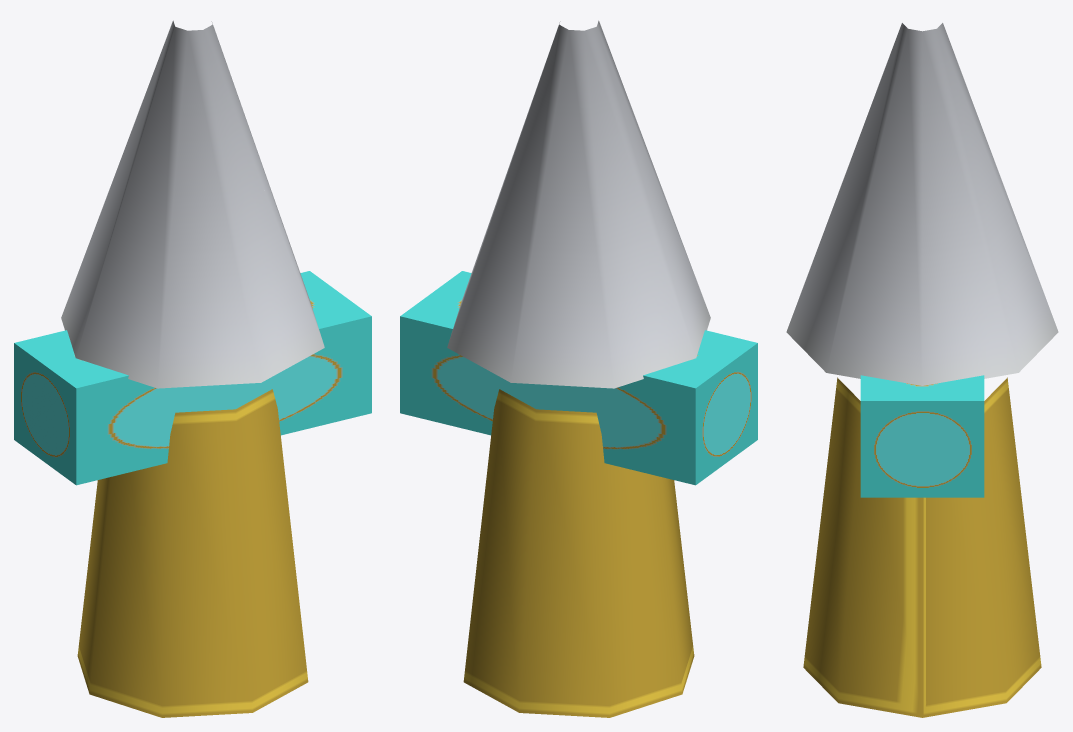
Rendered from ITEM_REST_SANCTUARY_KEY.glb.
3 renders of one model, left to right at view 1: azimuth 30°, elevation 25°; view 2: azimuth 150°, elevation 25°; view 3: azimuth 270°, elevation 25°, orthographic.
Visible parts, largest first — view 1: ITEM_REST_SANCTUARY_KEY; view 2: ITEM_REST_SANCTUARY_KEY; view 3: ITEM_REST_SANCTUARY_KEY.
Boxes of the visible parts, x1=… form: ITEM_REST_SANCTUARY_KEY: x1=14, y1=20, x2=371, y2=717; ITEM_REST_SANCTUARY_KEY: x1=400, y1=20, x2=757, y2=717; ITEM_REST_SANCTUARY_KEY: x1=786, y1=23, x2=1058, y2=717.
Size of the model in its own units: 0.22 by 0.46 by 0.176.
Materials: 1 (1 with a texture image).
